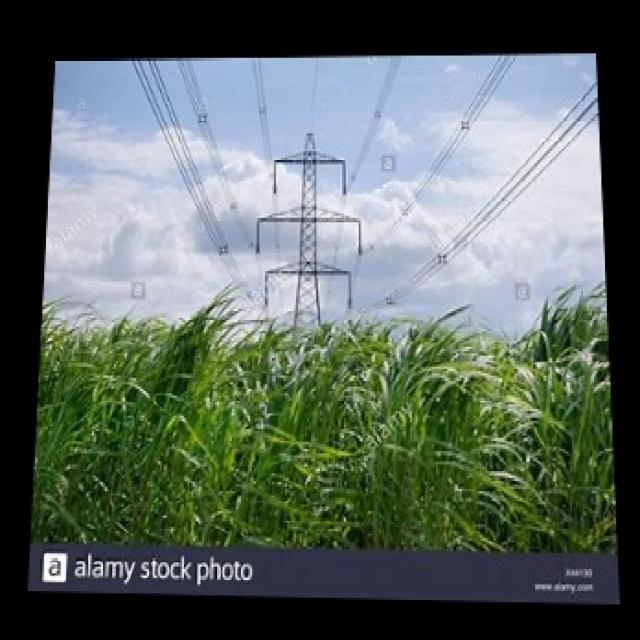utility poles: (246, 143, 374, 542)
